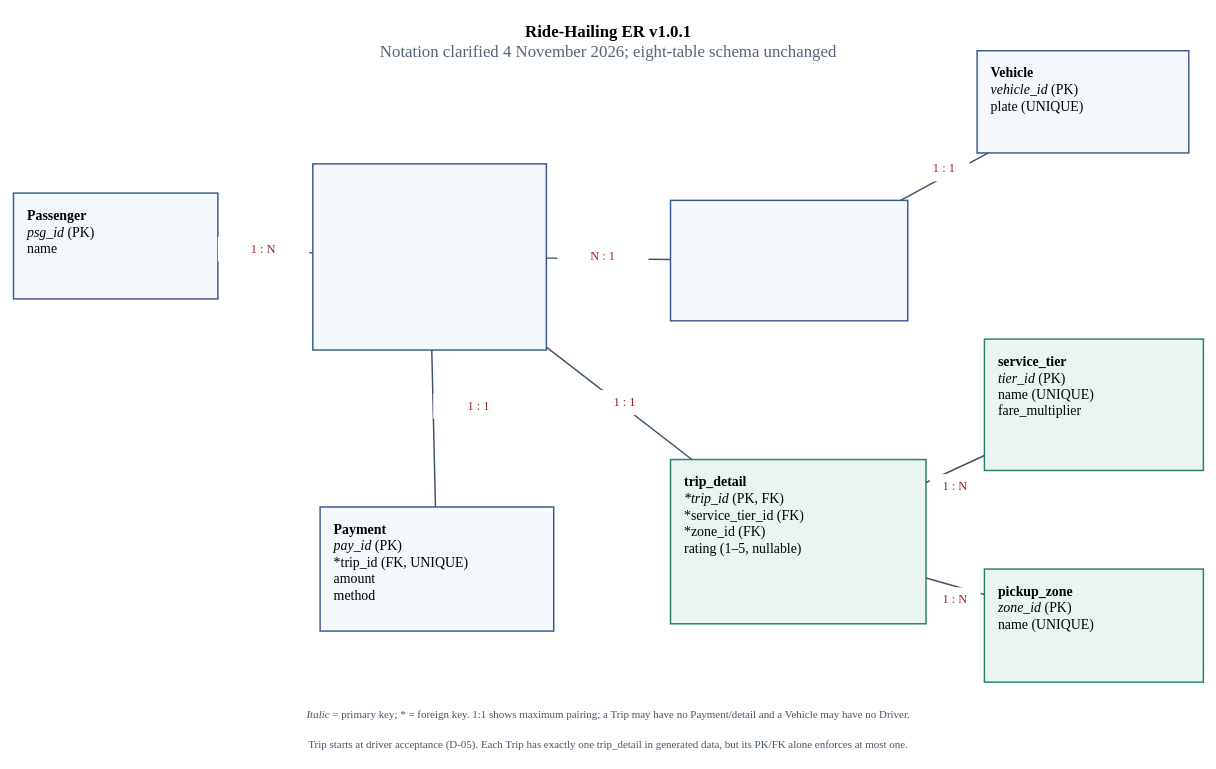
This 1216x769 diagram has some shape labels left out. Here are the shapes that lost their labels. From the top down, the centre of each, then its label:
[429,256]: Trip trip_id (PK) *psg_id (FK) *driver_id (FK) fare status start_time
[788,260]: Driver driver_id (PK) name *vehicle_id (FK, UNIQUE)
